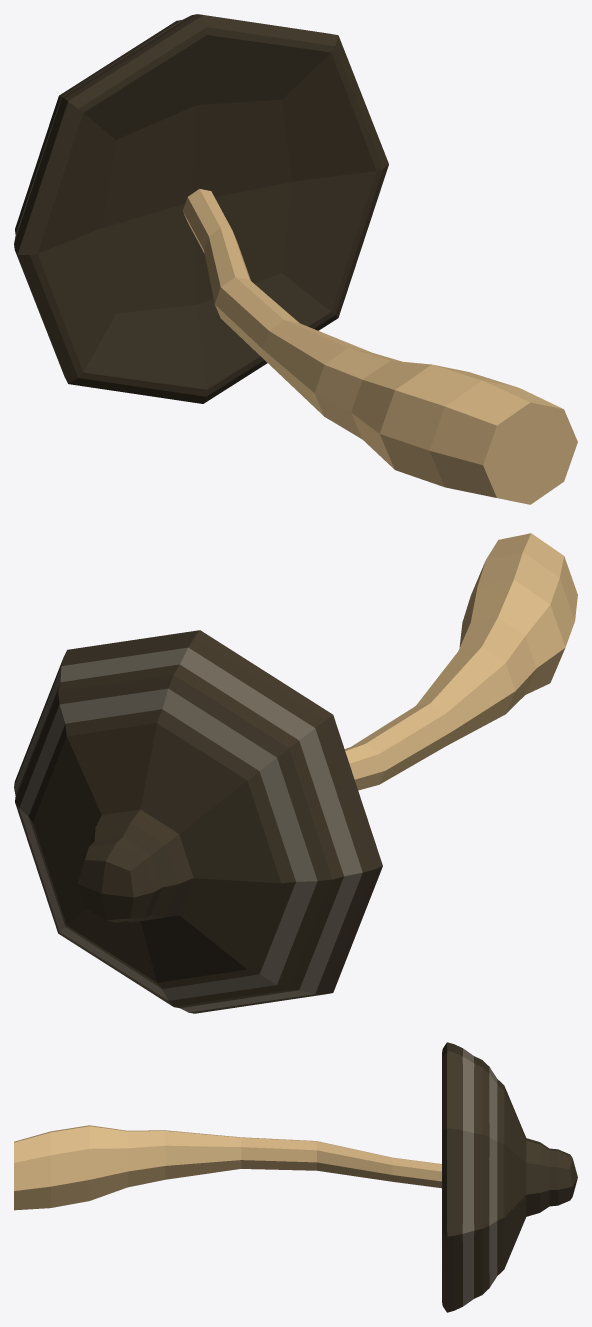
Rendered from Hongo silvestre 1 rotado 90 grados en Y.fbx.
The picture shows the model from 3 angles, top to bottom: view 1: azimuth 30°, elevation 25°; view 2: azimuth 150°, elevation 25°; view 3: azimuth 270°, elevation 25°; orthographic projection. The views are drawn at different scales.
Visible parts, largest first — view 1: Circle; view 2: Circle; view 3: Circle.
Part boxes in pixels (x1,y1,x2,y2): Circle: (14, 14, 577, 504); Circle: (14, 533, 577, 1013); Circle: (14, 1042, 577, 1312).
Bounding box in the file's own units: 20.91 × 20.91 × 42.12.
